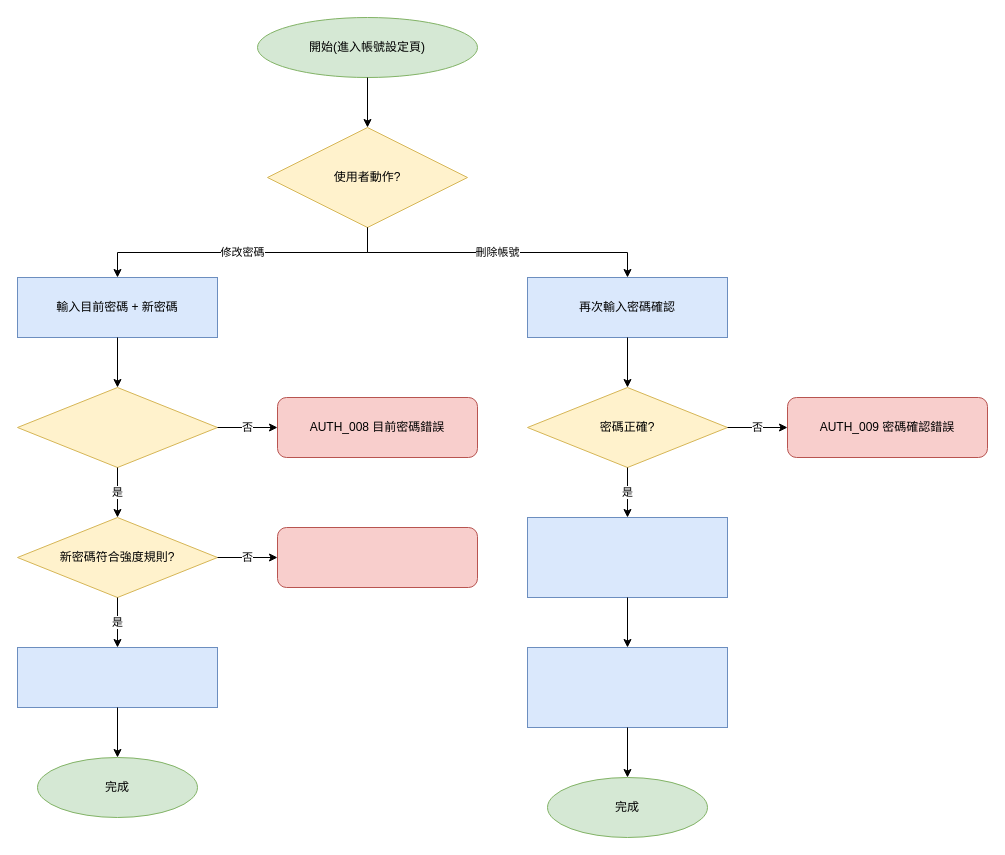
Image size: 1005x855. Some labels were removed from this diagram. The shapes that lost their labels are listed below. From the top down, each one's box as (x1, y1, x2, y2) in pixels, then its label:
(16, 386, 218, 468): 目前密碼正確?
(276, 526, 478, 588): AUTH_006 密碼不符強度規則
(526, 516, 728, 598): 串聯刪除所有裝置、 事件、影片、帳號
(16, 646, 218, 708): 更新密碼(不強制登出)
(526, 646, 728, 728): 清除本機 token, 導向啟動頁
